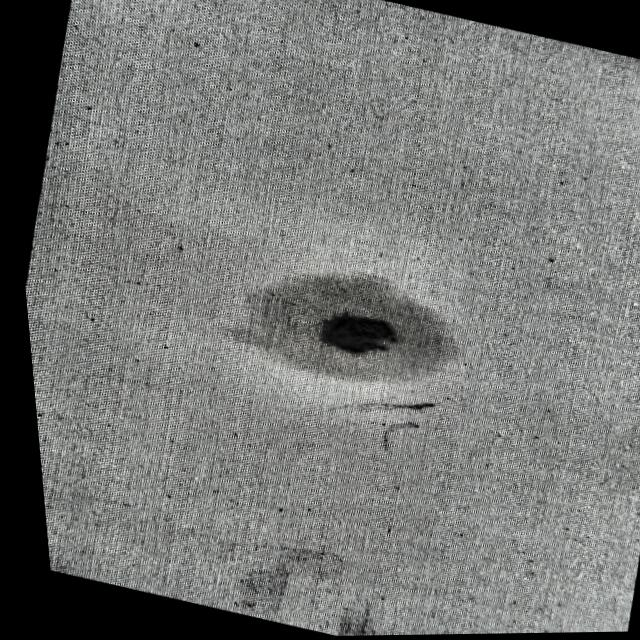Hole: (234, 254, 459, 405)
